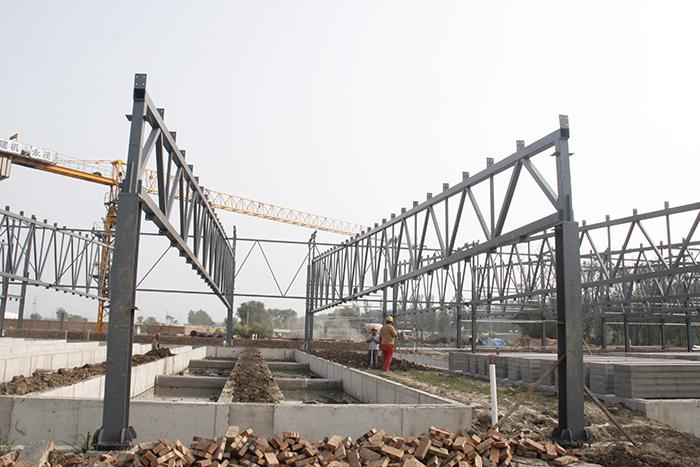helmet: (384, 314, 393, 323), (370, 326, 377, 333), (154, 331, 161, 337)
